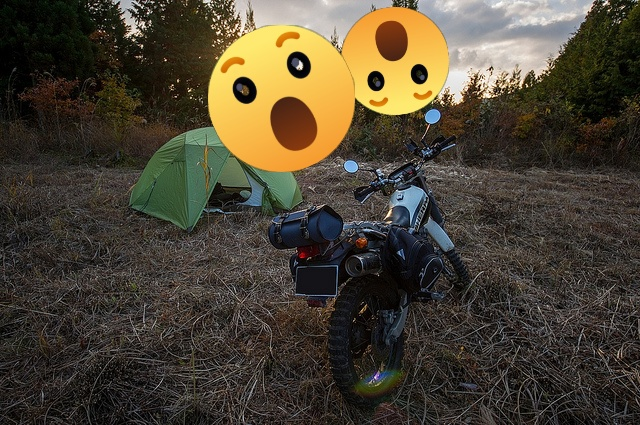wow: (208, 25, 355, 172), (341, 7, 449, 115)
